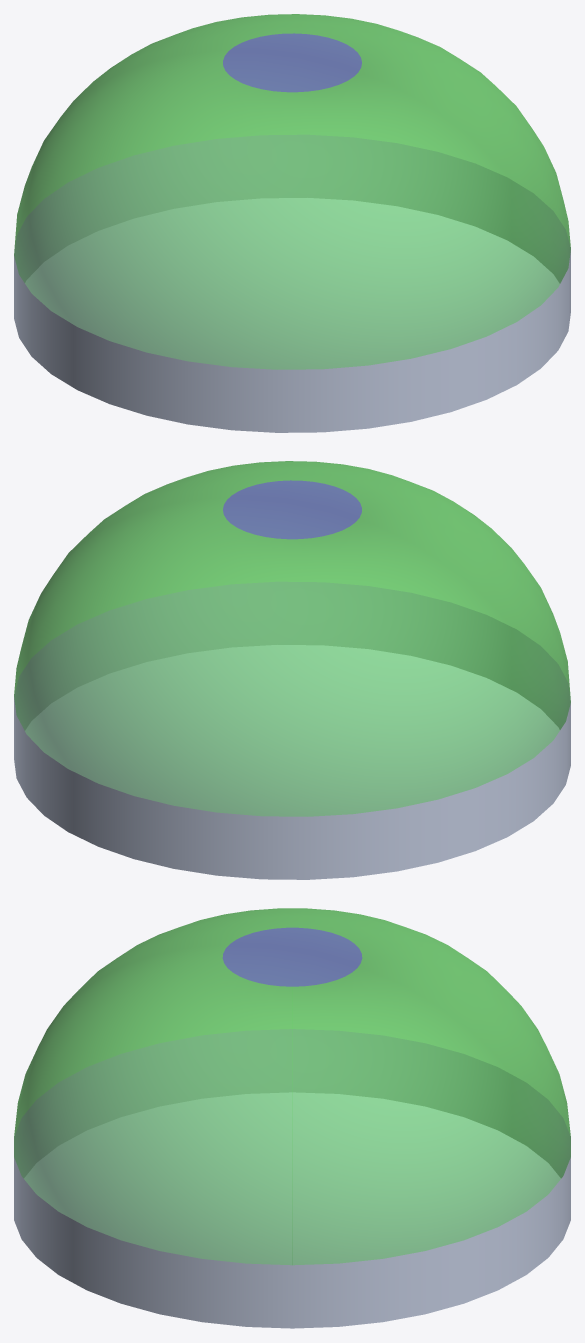
3 renders of one model, top to bottom at view 1: azimuth 30°, elevation 25°; view 2: azimuth 150°, elevation 25°; view 3: azimuth 270°, elevation 25°, orthographic.
Parts seen in each view (by area): view 1: ID2; view 2: ID2; view 3: ID2.
Boxes of the visible parts, x1,y1,x2,y2 form: ID2: [14, 14, 570, 432]; ID2: [14, 461, 570, 879]; ID2: [14, 908, 570, 1328].
Size of the model in its own units: 0.004 by 0.00399 by 0.002.
